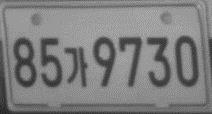0: (174, 35, 198, 87)
3: (146, 36, 170, 87)
5: (39, 37, 63, 88)
7: (118, 36, 142, 87)
8: (12, 36, 37, 87)
9: (92, 35, 116, 87)
가: (63, 46, 89, 88)
